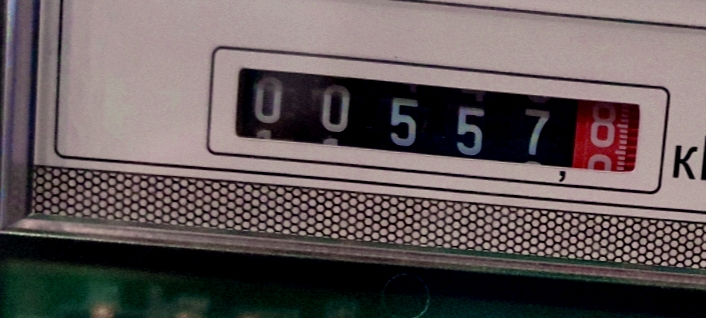0: (249, 70, 288, 129), (317, 80, 354, 135)
5: (450, 99, 491, 160), (385, 92, 423, 150)
7: (516, 102, 552, 159)
8: (588, 100, 619, 151)
screen: (200, 37, 676, 200)
